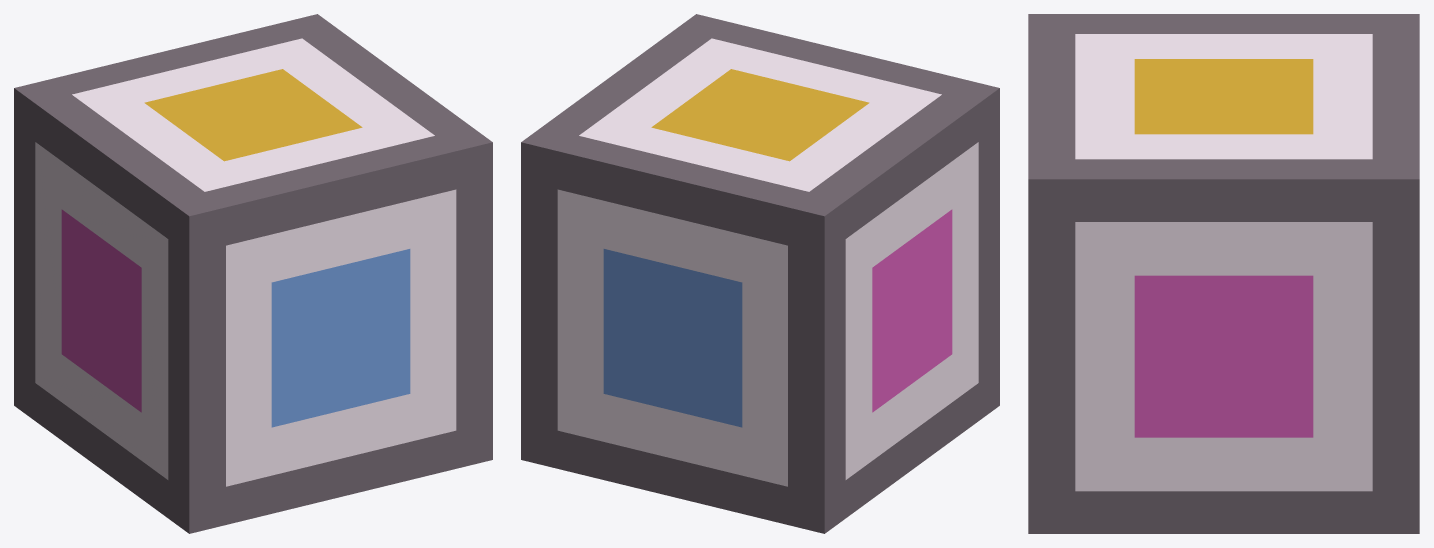
Rendered from cubeFinal.fbx.
The picture shows the model from 3 angles, left to right: view 1: azimuth 30°, elevation 25°; view 2: azimuth 150°, elevation 25°; view 3: azimuth 270°, elevation 25°; orthographic projection. The views are drawn at different scales.
Visible parts, largest first — view 1: Cube; view 2: Cube; view 3: Cube.
Boxes of the visible parts, x1,y1,x2,y2 form: Cube: (14,14,492,533); Cube: (521,14,999,533); Cube: (1028,14,1419,533).
Bounding box in the file's own units: 2 × 2 × 2.
